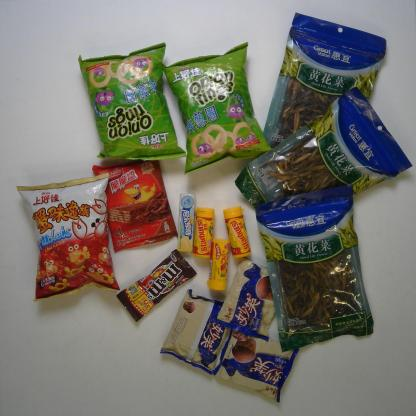Candy: (223, 205, 252, 259), (206, 238, 230, 290), (192, 206, 215, 258), (177, 193, 196, 253)
Chocolate: (115, 249, 197, 322)
Dessert: (92, 160, 178, 252), (212, 329, 300, 403), (159, 289, 229, 375), (214, 256, 276, 342)
Dried Food: (234, 86, 413, 209), (253, 184, 374, 353), (262, 12, 386, 149)
Puffed Food: (162, 42, 273, 175), (16, 172, 121, 302), (77, 42, 186, 161)
